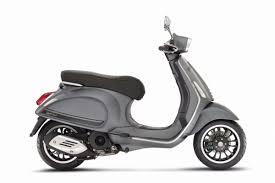motorcycle: (29, 10, 246, 173)
